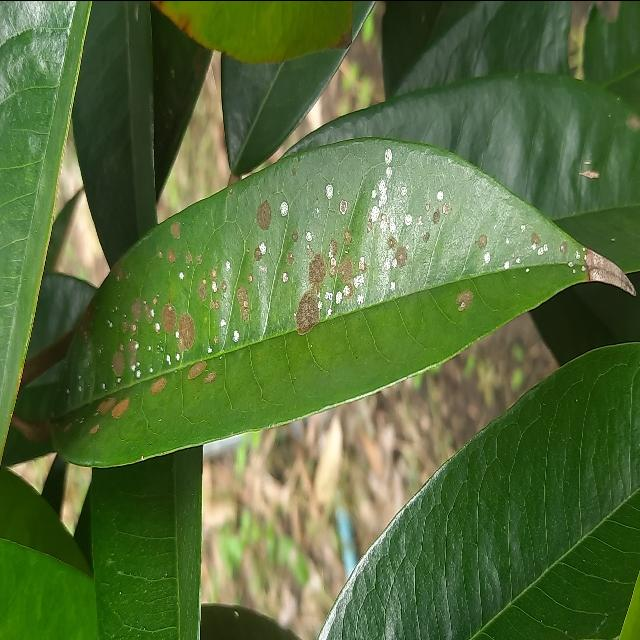Algal Leaf Spot: (34, 125, 640, 479)
